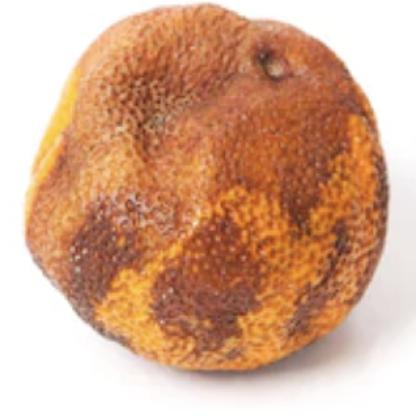rotten: (22, 5, 387, 374)
